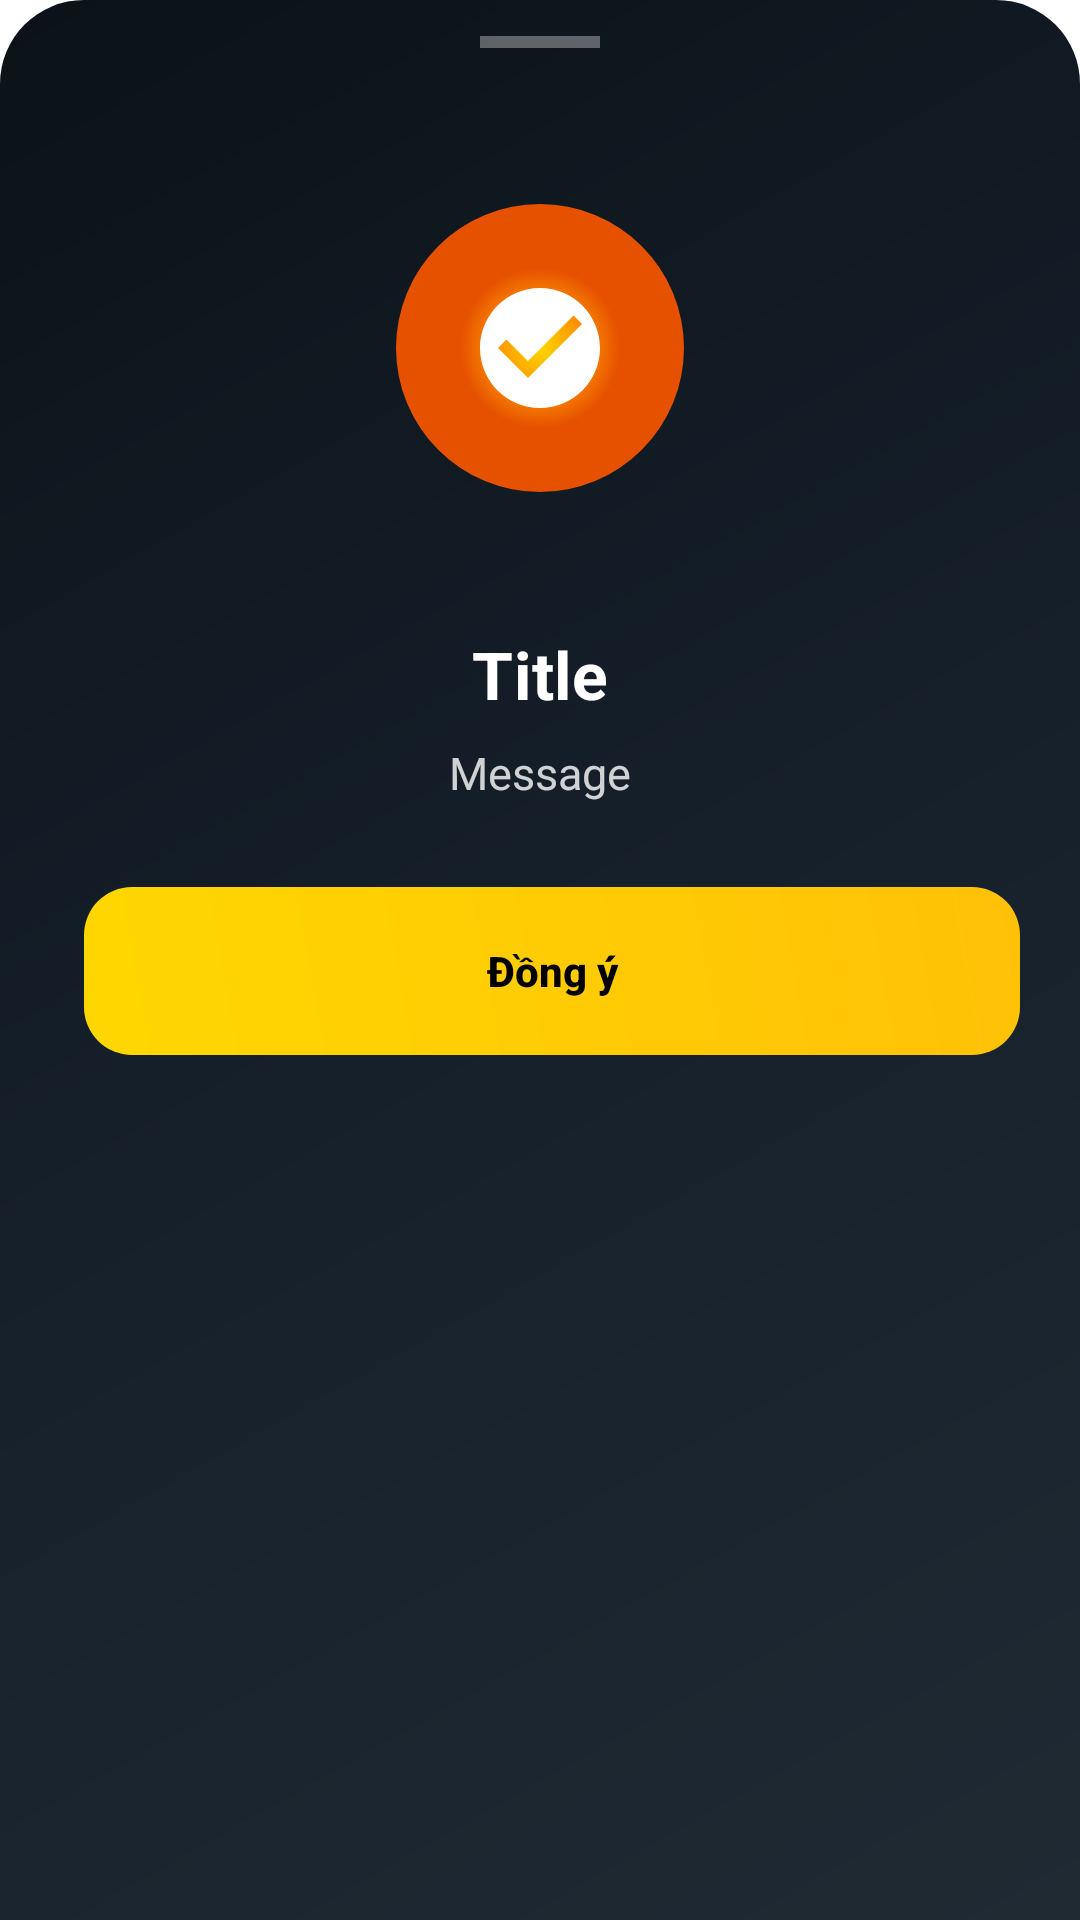

Where to tap for icons on this 1080 x 1920 app screen, as (x,y):
check circle: (540,348)
